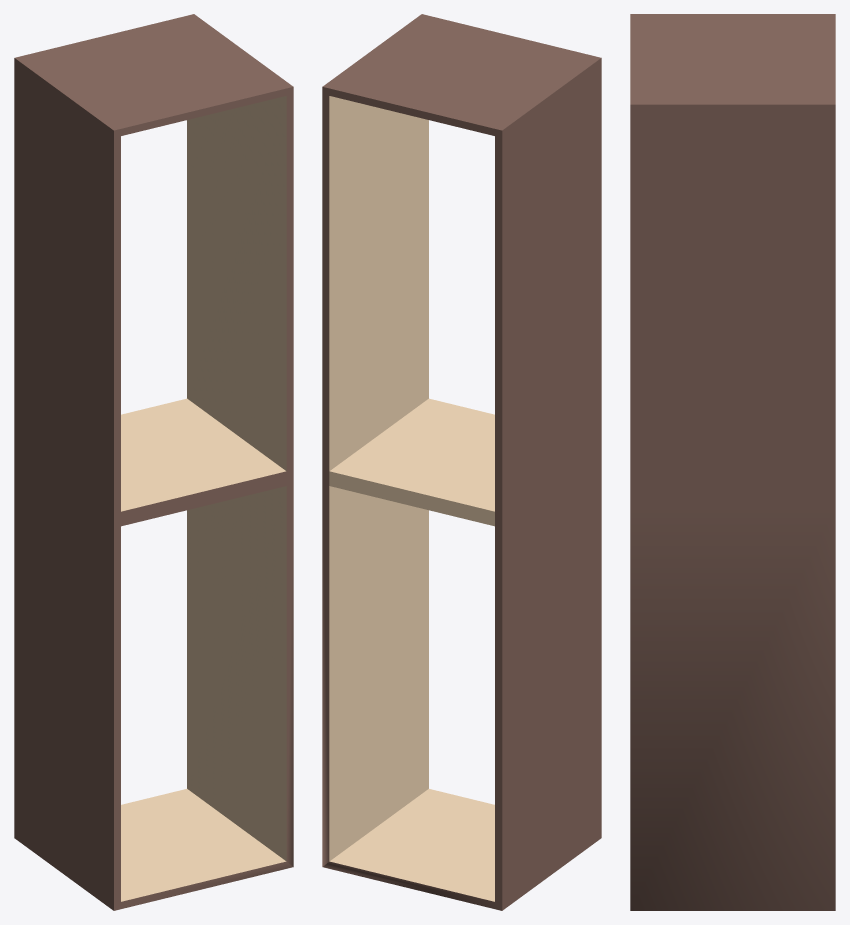
Rendered from closet_035.fbx.
3 renders of one model, left to right at view 1: azimuth 30°, elevation 25°; view 2: azimuth 150°, elevation 25°; view 3: azimuth 270°, elevation 25°, orthographic. The views are drawn at different scales.
Parts seen in each view (by area): view 1: closet_035; view 2: closet_035; view 3: closet_035.
Boxes of the visible parts, x1=… form: closet_035: x1=14, y1=14, x2=293, y2=910; closet_035: x1=322, y1=14, x2=601, y2=910; closet_035: x1=630, y1=14, x2=835, y2=910.
Size of the model in its own units: 74.13 by 71.03 by 308.
